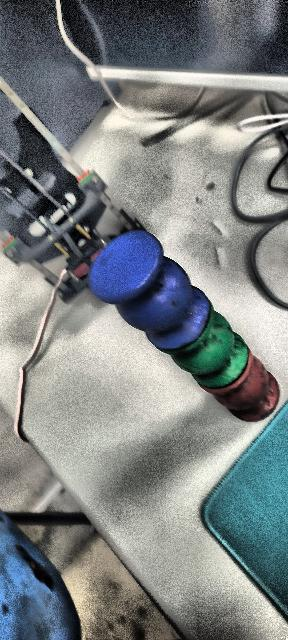blue: (87, 223, 212, 351)
green: (166, 304, 247, 394)
red: (200, 348, 279, 424)
